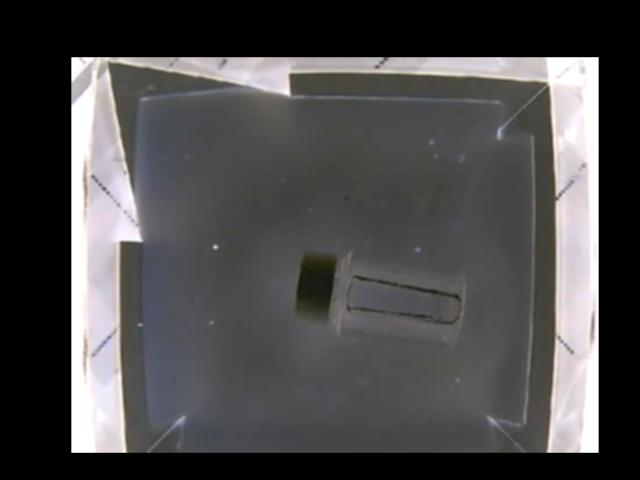Bottle: (292, 245, 464, 346)
